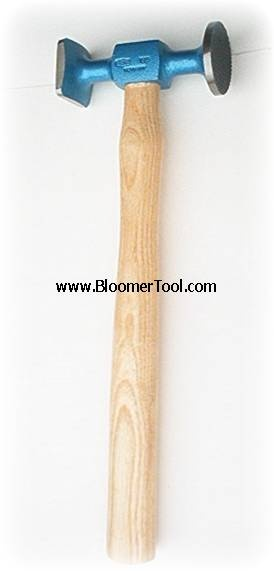hammer: (53, 21, 234, 556)
